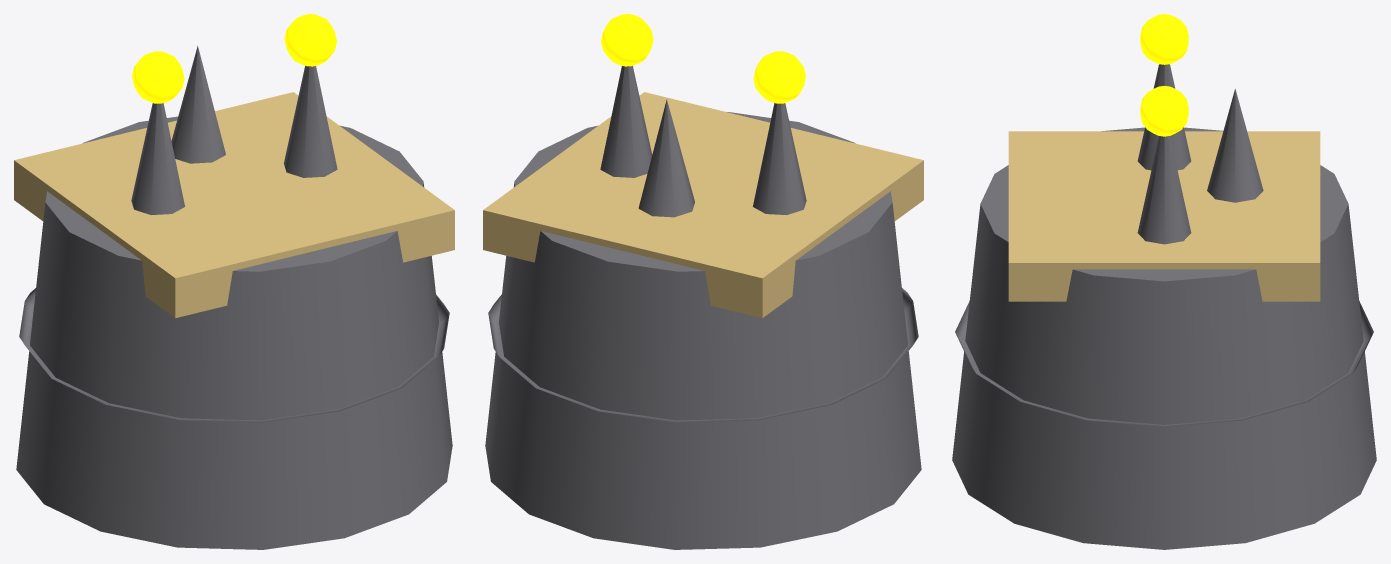
The model's file is shoulder_pad_spiked.glb.
3 renders of one model, left to right at view 1: azimuth 30°, elevation 25°; view 2: azimuth 150°, elevation 25°; view 3: azimuth 270°, elevation 25°, orthographic. The views are drawn at different scales.
Visible parts, largest first — view 1: cup, rim, spikes, glow; view 2: cup, rim, spikes, glow; view 3: cup, rim, spikes, glow.
Boxes of the visible parts, x1,y1,x2,y2 form: cup: (16, 116, 452, 549); rim: (14, 92, 454, 318); spikes: (131, 45, 337, 214); glow: (132, 14, 336, 103); cup: (485, 112, 921, 549); rim: (483, 92, 923, 318); spikes: (600, 66, 806, 217); glow: (601, 14, 805, 103); cup: (952, 127, 1376, 549); rim: (1008, 131, 1320, 301); spikes: (1137, 64, 1263, 244); glow: (1140, 14, 1188, 136).
Size of the model in its own units: 0.3 by 0.318 by 0.3.
